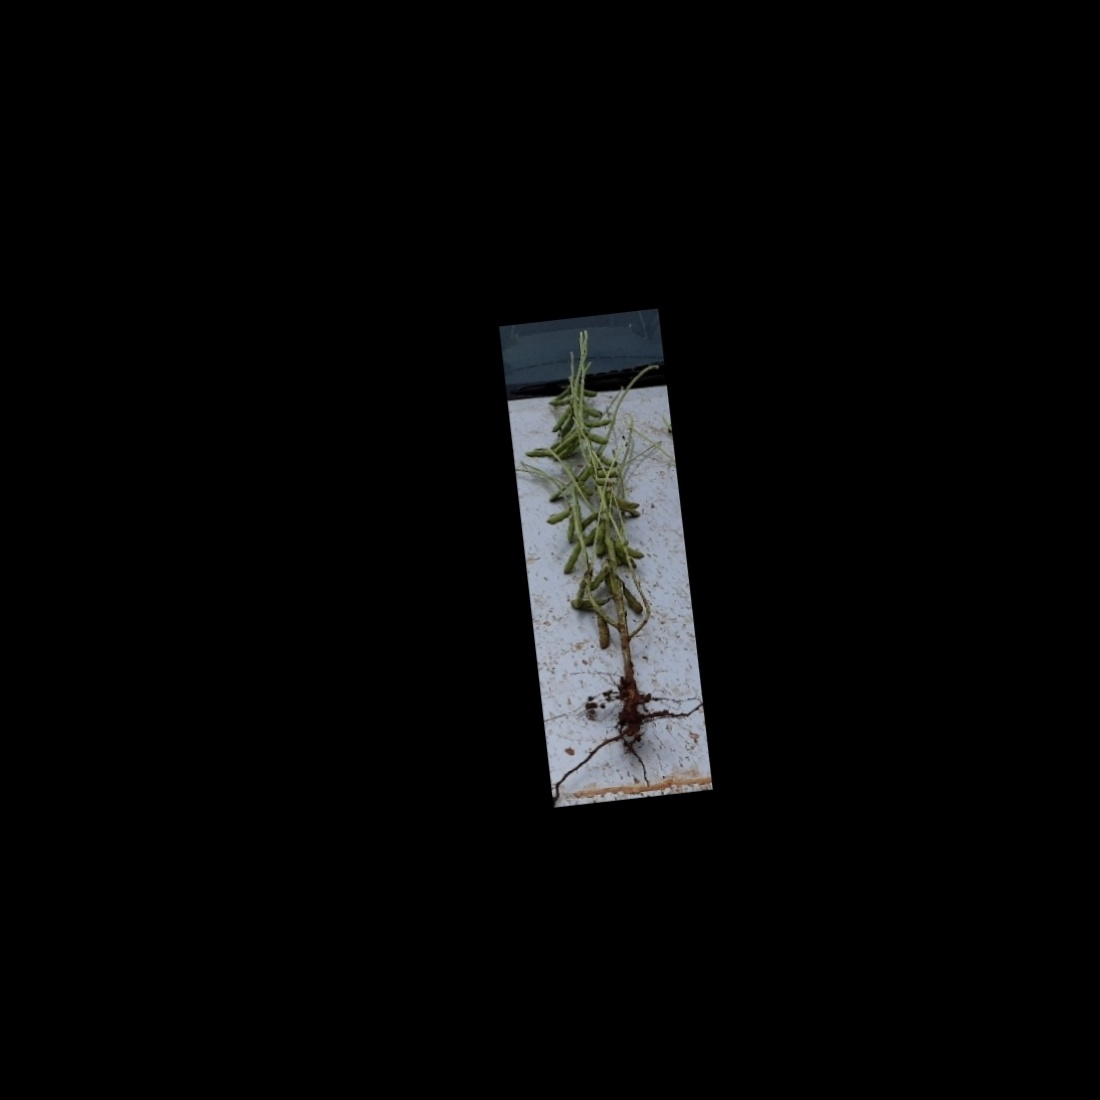pod: (555, 538, 589, 580), (613, 573, 644, 618), (589, 606, 615, 656), (546, 403, 577, 437), (539, 503, 579, 529), (572, 511, 603, 535), (583, 429, 611, 449), (546, 392, 577, 408), (579, 415, 613, 429)
soy: (506, 317, 699, 739)
